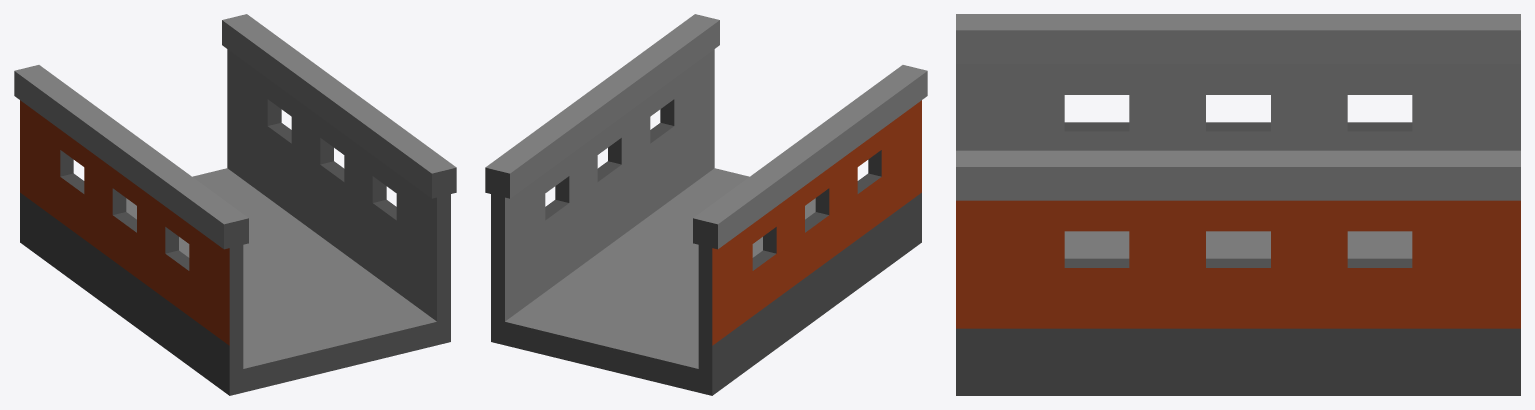
The model's file is Building_03.fbx.
3 views of the same model, side by side, from view 1: azimuth 30°, elevation 25°; view 2: azimuth 150°, elevation 25°; view 3: azimuth 270°, elevation 25° (orthographic). The views are drawn at different scales.
Visible parts, largest first — view 1: Building_03; view 2: Building_03; view 3: Building_03.
Part boxes in pixels (<box>): Building_03: <box>14,14,456,395</box>; Building_03: <box>485,14,927,395</box>; Building_03: <box>956,14,1520,395</box>.
Bounding box in the file's own units: 430 × 305 × 672.
1 material, 1 textured.
